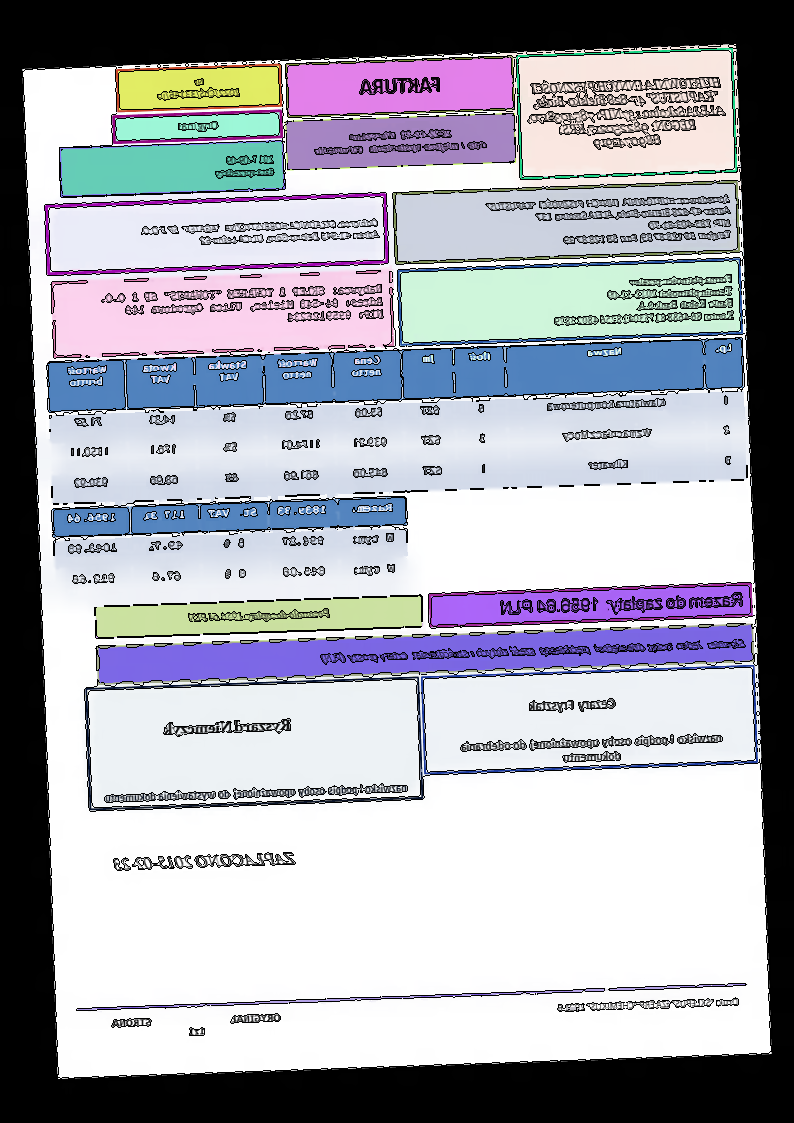Table: (46, 336, 749, 506), (50, 496, 411, 600)
TextBox: (523, 74, 728, 154), (483, 193, 733, 251), (98, 281, 386, 330), (319, 636, 747, 666), (550, 271, 735, 328), (458, 731, 726, 766), (139, 214, 381, 249), (103, 780, 410, 806), (499, 589, 745, 620), (312, 126, 488, 158), (110, 1011, 285, 1041), (111, 849, 298, 873), (556, 996, 740, 1015), (162, 715, 292, 738), (185, 606, 332, 624), (155, 75, 242, 103), (358, 74, 443, 98), (213, 152, 277, 180), (527, 696, 617, 714), (176, 118, 220, 134)
